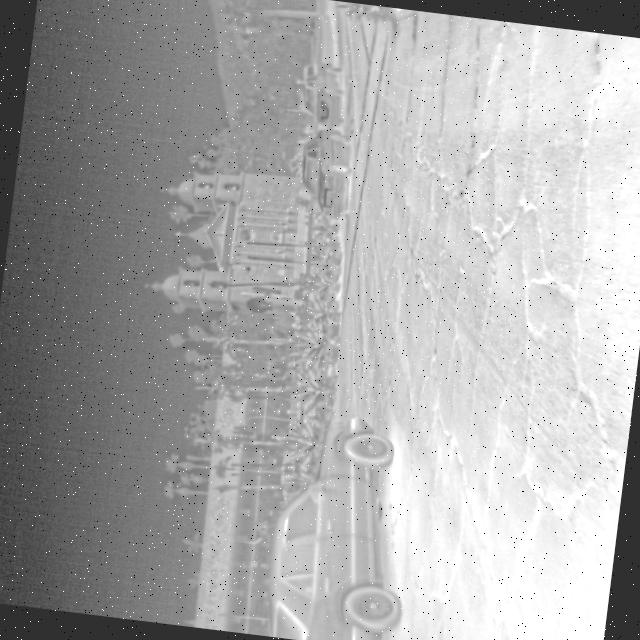Vehicle: (256, 406, 425, 640), (290, 123, 360, 222), (292, 56, 356, 133)
